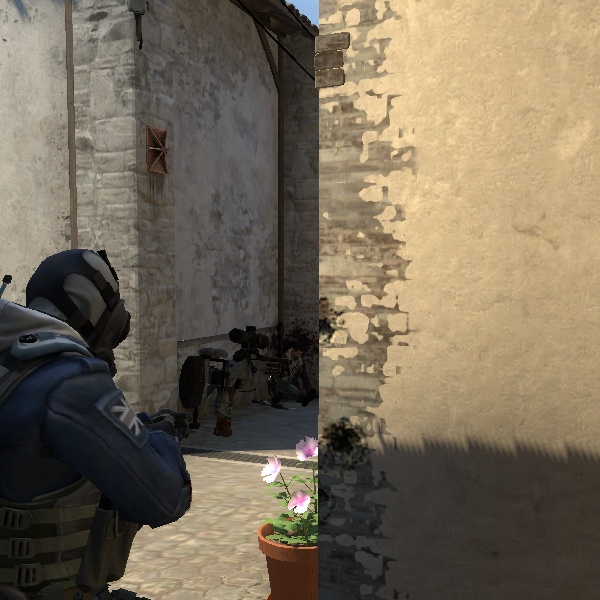ct_head: (4, 232, 140, 401)
